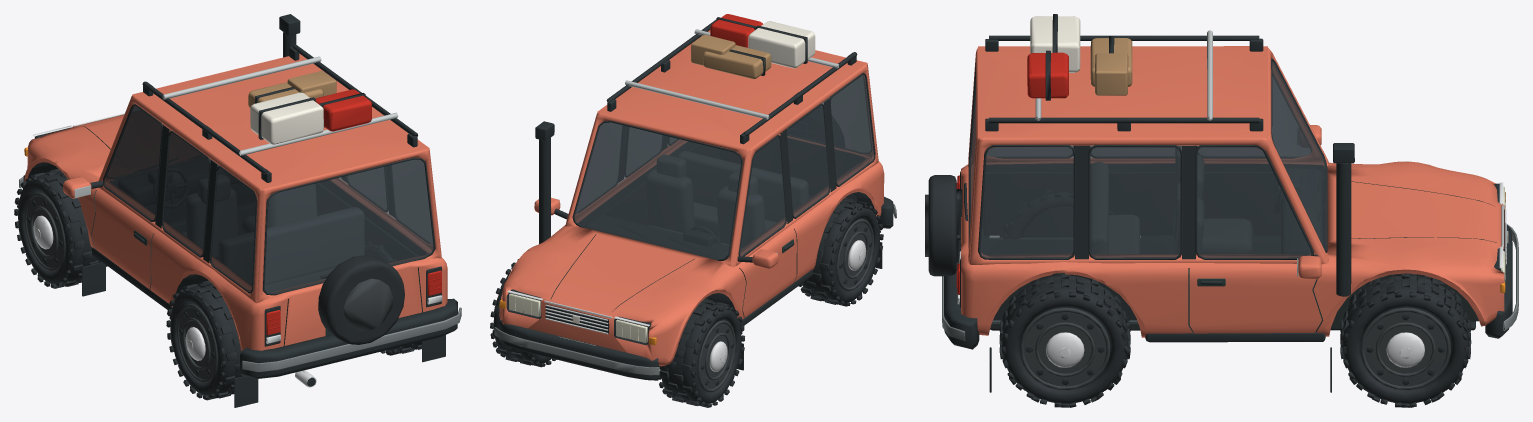
Rendered from fell_lod2.fbx.
3 renders of one model, left to right at view 1: azimuth 30°, elevation 25°; view 2: azimuth 150°, elevation 25°; view 3: azimuth 270°, elevation 25°, orthographic. The views are drawn at different scales.
Parts seen in each view (by area): view 1: Body, Wheel_FL_Mesh, Wheel_RL_Mesh, Wheel_RR_Mesh; view 2: Body, Wheel_FL_Mesh, Wheel_RL_Mesh, Wheel_FR_Mesh; view 3: Body, Wheel_FR_Mesh, Wheel_RR_Mesh, Wheel_RL_Mesh.
Boxes of the visible parts, bbox=[...] form: Body: bbox=[19, 14, 461, 407]; Wheel_FL_Mesh: bbox=[14, 168, 107, 288]; Wheel_RL_Mesh: bbox=[166, 280, 244, 400]; Wheel_RR_Mesh: bbox=[365, 241, 421, 355]; Body: bbox=[494, 14, 896, 380]; Wheel_FL_Mesh: bbox=[658, 299, 744, 407]; Wheel_RL_Mesh: bbox=[798, 197, 883, 306]; Wheel_FR_Mesh: bbox=[490, 259, 556, 367]; Body: bbox=[925, 14, 1518, 392]; Wheel_FR_Mesh: bbox=[1340, 273, 1471, 407]; Wheel_RR_Mesh: bbox=[999, 274, 1130, 407]; Wheel_RL_Mesh: bbox=[1000, 190, 1114, 238].
Size of the model in its own units: 240 by 241 by 422.
